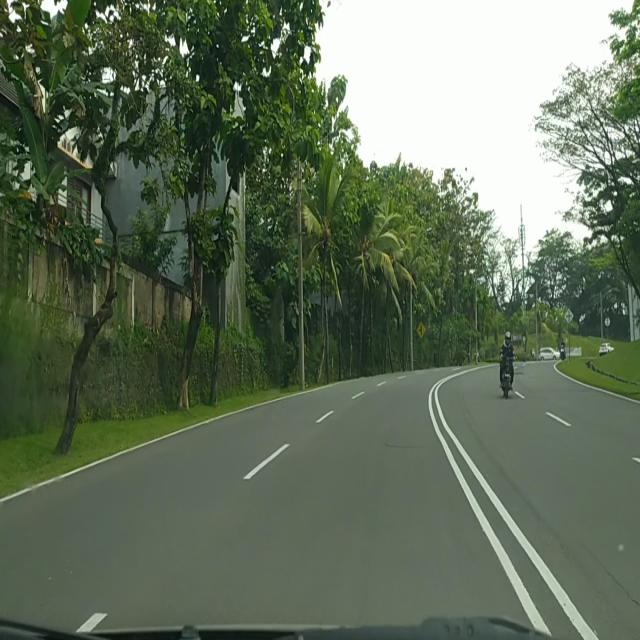Sewer Cover: (382, 439, 441, 453)
